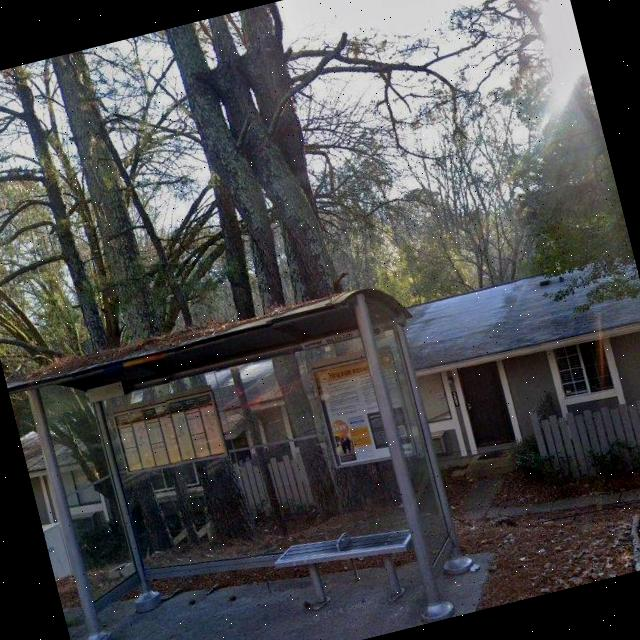seating: (270, 512, 424, 622)
shelter: (4, 276, 482, 640)
